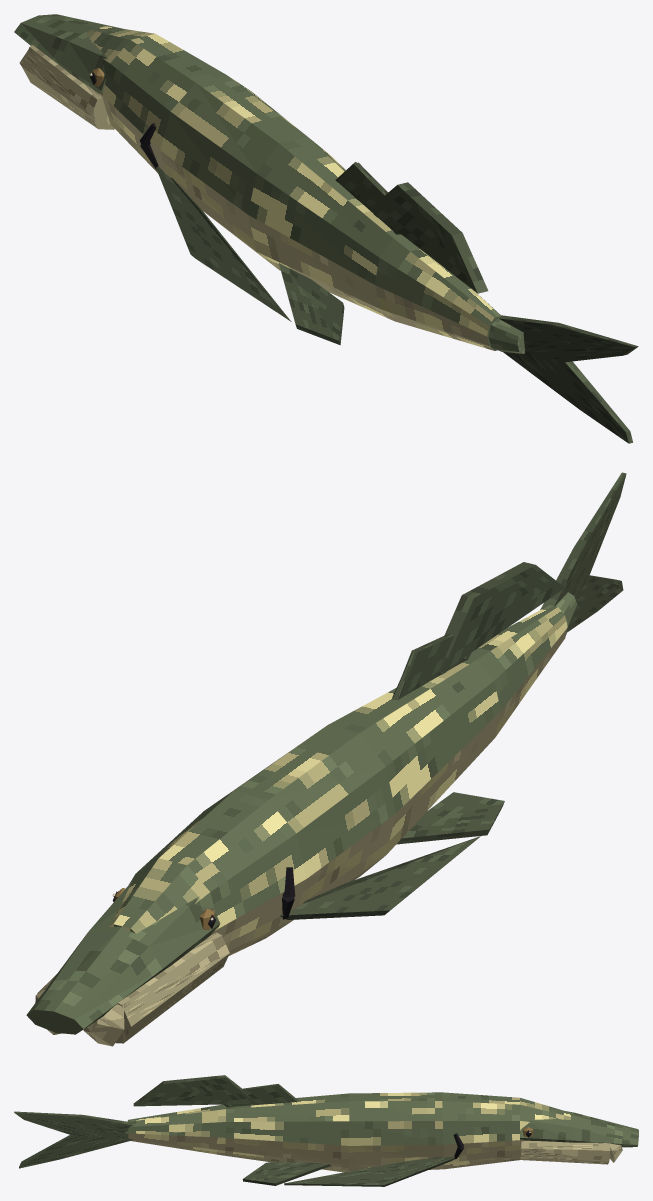
The model's file is mon_fish_pike.glb.
The picture shows the model from 3 angles, top to bottom: view 1: azimuth 30°, elevation 25°; view 2: azimuth 150°, elevation 25°; view 3: azimuth 270°, elevation 25°; orthographic projection. The views are drawn at different scales.
Visible parts, largest first — view 1: closed_body; view 2: closed_body; view 3: closed_body.
Boxes of the visible parts, x1,y1,x2,y2 form: closed_body: (14,14,638,443); closed_body: (26,472,626,1046); closed_body: (14,1075,638,1186).
Size of the model in its own units: 0.1828 by 0.1979 by 1.21.
Materials: 1 (1 with a texture image).
